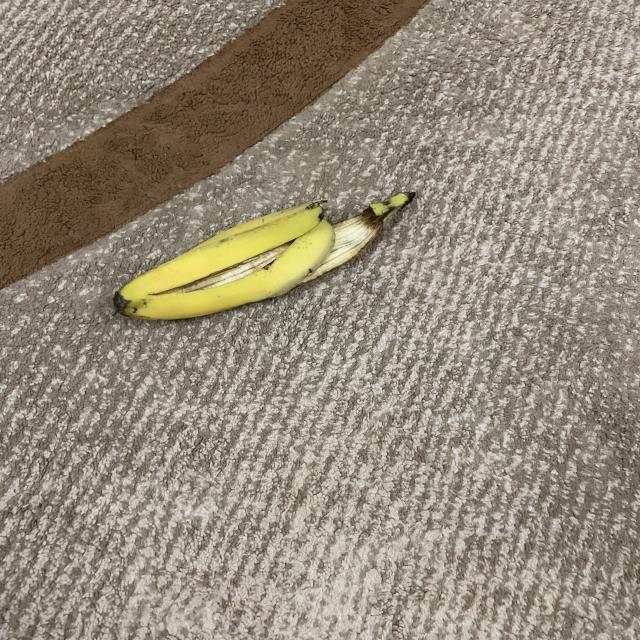banana-peel: (112, 189, 415, 322)
